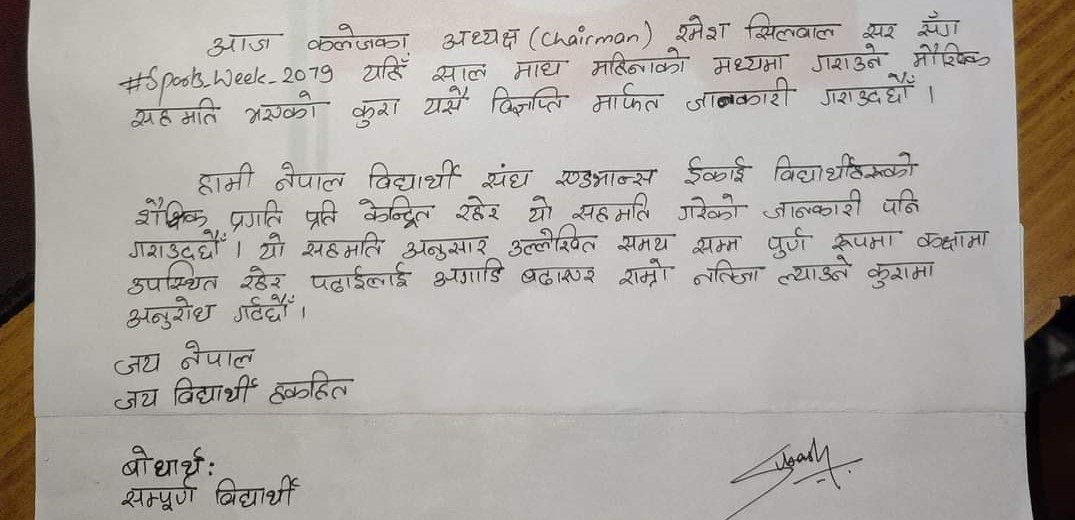text: (771, 148, 920, 183), (684, 77, 794, 112), (131, 94, 223, 135), (124, 259, 222, 297), (760, 185, 866, 220), (817, 73, 919, 109), (309, 264, 413, 297), (125, 228, 226, 261), (267, 367, 354, 405), (119, 441, 206, 479), (124, 295, 215, 331), (214, 472, 300, 509), (306, 22, 408, 53), (365, 157, 458, 191), (242, 88, 322, 127), (172, 372, 261, 406), (746, 11, 840, 43), (119, 479, 199, 516), (588, 50, 693, 78), (552, 163, 657, 191), (571, 190, 655, 225), (134, 193, 209, 232), (507, 227, 600, 258), (356, 193, 434, 229), (489, 85, 566, 120), (591, 80, 666, 115), (274, 160, 347, 195), (398, 234, 488, 262), (909, 40, 993, 70), (440, 25, 523, 55), (231, 291, 298, 328), (681, 151, 749, 187), (809, 43, 885, 75), (518, 260, 599, 290), (432, 258, 507, 289), (178, 340, 253, 371), (772, 257, 853, 285), (691, 258, 766, 288), (301, 232, 384, 259), (864, 260, 936, 291), (196, 160, 256, 197), (675, 190, 742, 223), (913, 226, 990, 253), (674, 12, 732, 47), (229, 197, 284, 232), (206, 32, 277, 59), (617, 256, 673, 288), (350, 96, 401, 131), (828, 228, 899, 253), (420, 85, 470, 119), (710, 53, 787, 75), (764, 225, 810, 261), (453, 193, 501, 226), (112, 349, 164, 378), (361, 55, 409, 86), (613, 231, 672, 256), (431, 60, 489, 85), (510, 56, 566, 81), (481, 164, 532, 191), (111, 386, 162, 413), (237, 264, 284, 293), (881, 186, 922, 218), (302, 197, 339, 232), (916, 11, 961, 39), (691, 231, 741, 255), (523, 193, 556, 225), (256, 230, 290, 261), (862, 17, 900, 40)
